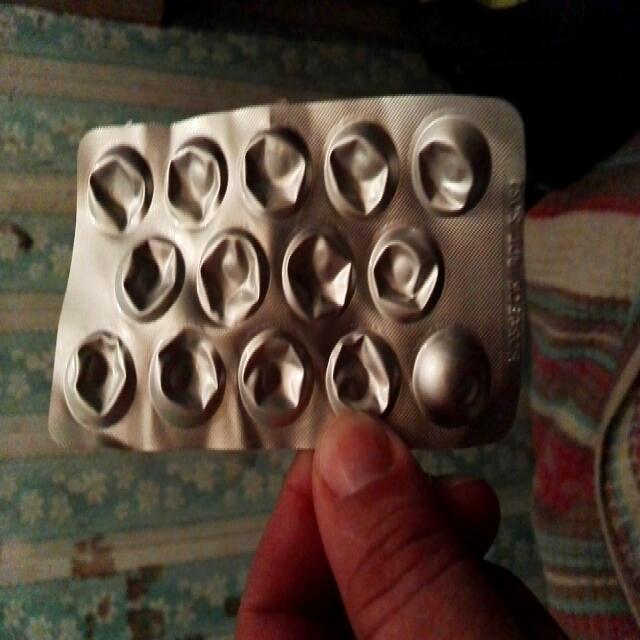Empty: (408, 110, 491, 217), (150, 319, 226, 434), (321, 111, 401, 218), (278, 225, 356, 327), (236, 116, 311, 222), (60, 328, 132, 438), (195, 225, 273, 326), (368, 222, 446, 322), (235, 330, 313, 426), (323, 332, 401, 422), (112, 231, 186, 321), (159, 133, 230, 225), (84, 146, 151, 234)
Pill: (414, 327, 491, 430)
